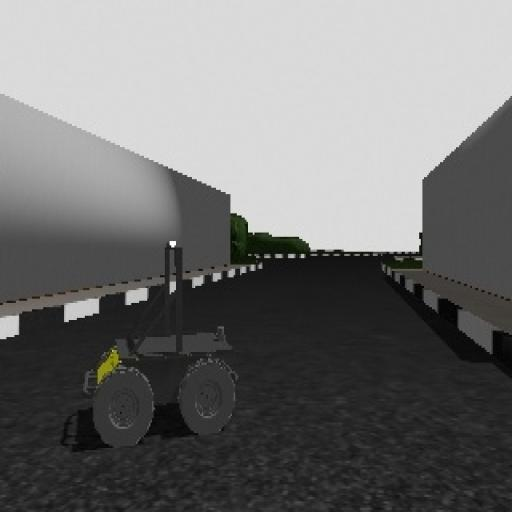huskya200: (82, 240, 244, 454)
